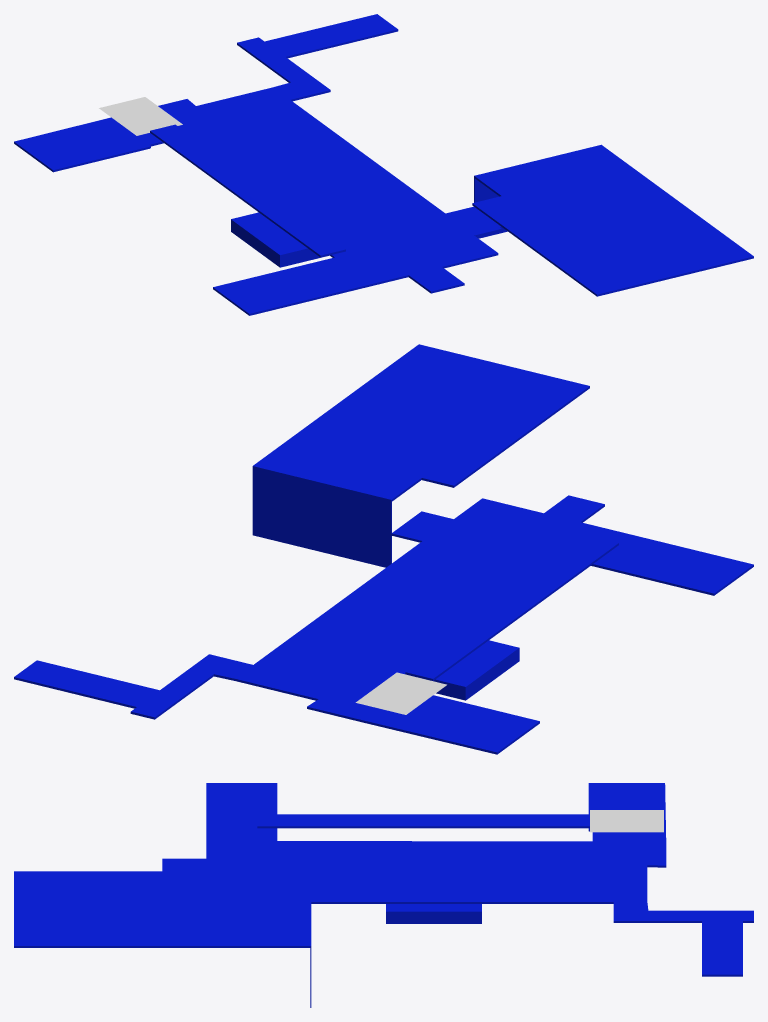
Rendered from Runko_Katto.fbx.
3 views of the same model, one above another, from view 1: azimuth 30°, elevation 25°; view 2: azimuth 150°, elevation 25°; view 3: azimuth 270°, elevation 25° (orthographic). The views are drawn at different scales.
Visible parts, largest first — view 1: KattoRunko; view 2: KattoRunko; view 3: KattoRunko.
Part boxes in pixels (x1,y1,x2,y2): KattoRunko: (14,14,753,315); KattoRunko: (14,344,753,754); KattoRunko: (14,783,753,1007).
Bounding box in the file's own units: 4146 × 800 × 6718.
